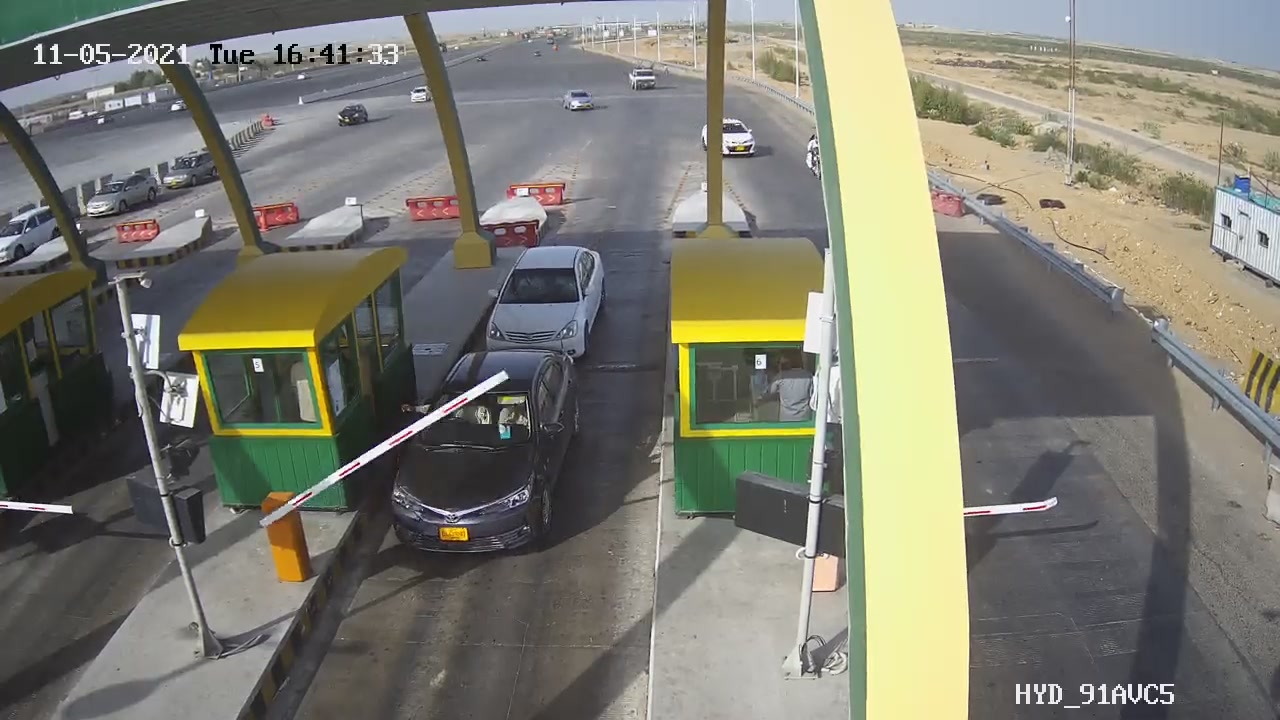F1: (370, 331, 613, 576), (466, 227, 633, 372)
